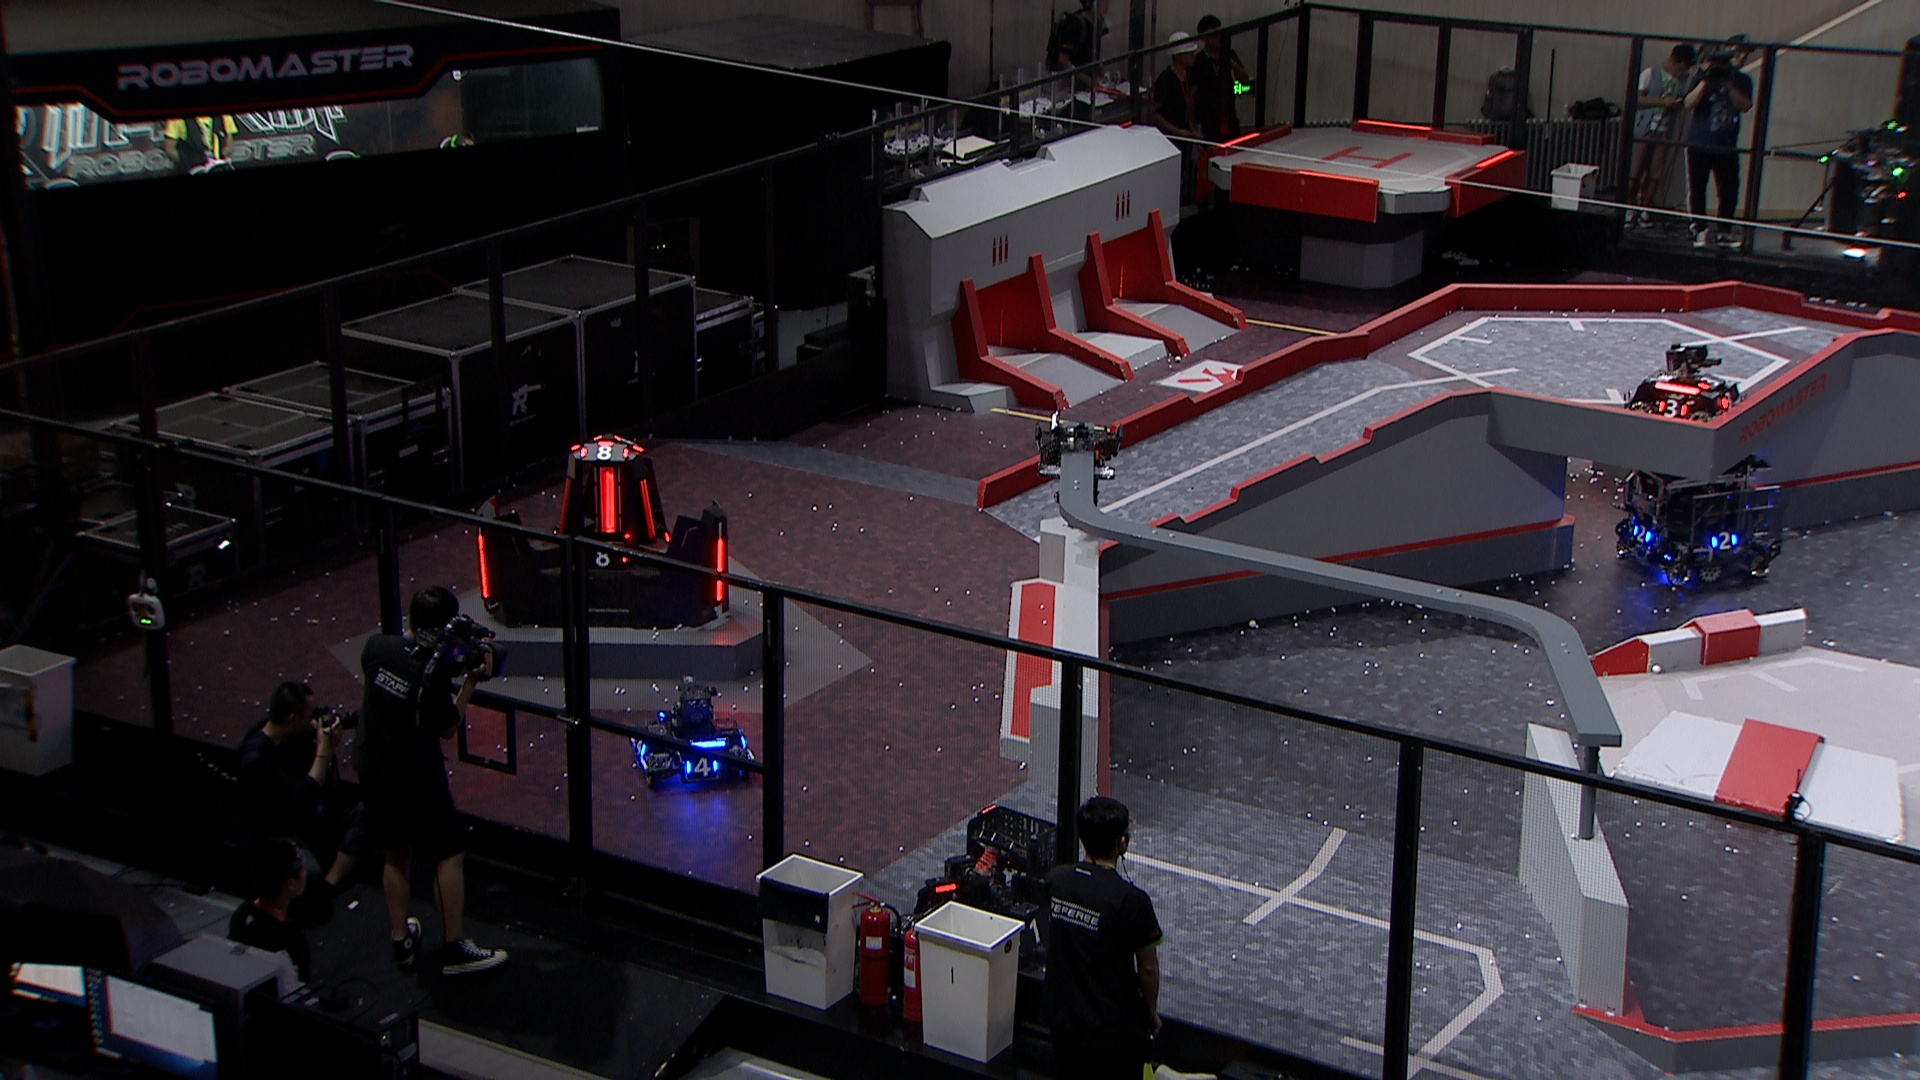armor: (1011, 911, 1051, 945), (599, 469, 618, 534), (475, 527, 491, 600), (713, 533, 728, 605), (638, 480, 655, 537), (556, 476, 572, 535), (578, 443, 629, 458), (585, 550, 629, 564), (684, 756, 713, 775), (1712, 531, 1741, 549), (1656, 400, 1687, 415), (1629, 524, 1651, 545), (1721, 392, 1741, 413), (1695, 375, 1718, 390), (632, 738, 646, 756)
base: (465, 433, 731, 626)
car: (906, 802, 1088, 973), (1613, 447, 1788, 591), (626, 676, 756, 793), (1618, 342, 1749, 433)
watcher: (1027, 407, 1120, 514)
